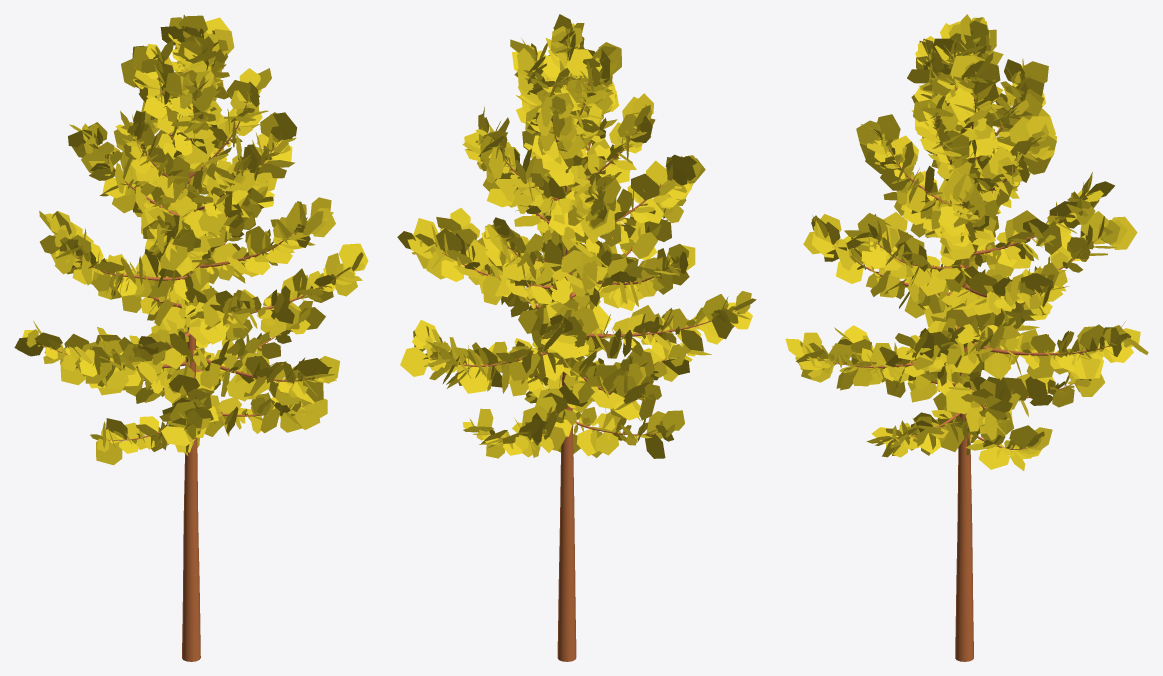
Rendered from akitree.fbx.
3 renders of one model, left to right at view 1: azimuth 30°, elevation 25°; view 2: azimuth 150°, elevation 25°; view 3: azimuth 270°, elevation 25°, orthographic.
Visible parts, largest first — view 1: leaves, tree; view 2: leaves, tree; view 3: leaves, tree.
Boxes of the visible parts, x1,y1,x2,y2 form: leaves: (14, 14, 368, 465); tree: (43, 65, 349, 661); leaves: (397, 14, 756, 458); tree: (433, 46, 735, 661); leaves: (785, 14, 1148, 470); tree: (824, 53, 1109, 661).
Bounding box in the file's own units: 882 × 1774 × 910.
